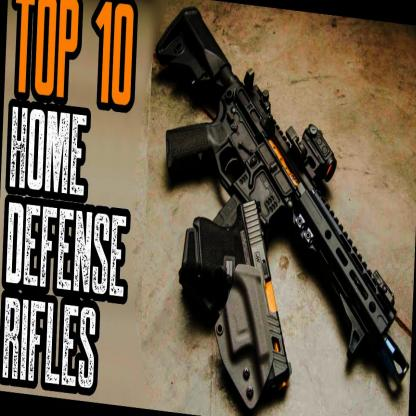rifle: (148, 14, 330, 246)
